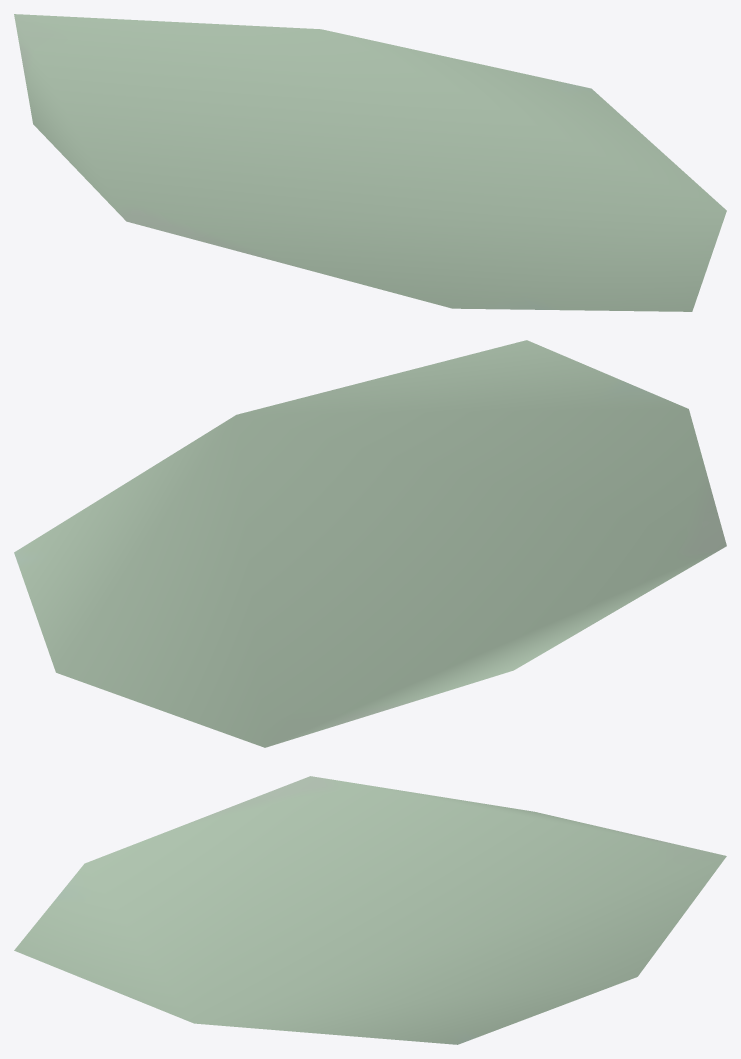
Rendered from TROLLHOLE02_HOLECAP106.fbx.
The picture shows the model from 3 angles, top to bottom: view 1: azimuth 30°, elevation 25°; view 2: azimuth 150°, elevation 25°; view 3: azimuth 270°, elevation 25°; orthographic projection. The views are drawn at different scales.
Visible parts, largest first — view 1: TROLLHOLE02_HOLECAP106; view 2: TROLLHOLE02_HOLECAP106; view 3: TROLLHOLE02_HOLECAP106.
Boxes of the visible parts, <box> form: TROLLHOLE02_HOLECAP106: <box>14,14,726,311</box>; TROLLHOLE02_HOLECAP106: <box>14,340,726,747</box>; TROLLHOLE02_HOLECAP106: <box>14,776,726,1044</box>.
Bounding box in the file's own units: 17218 × 2147 × 24462.
Materials: 1 (1 with a texture image).
